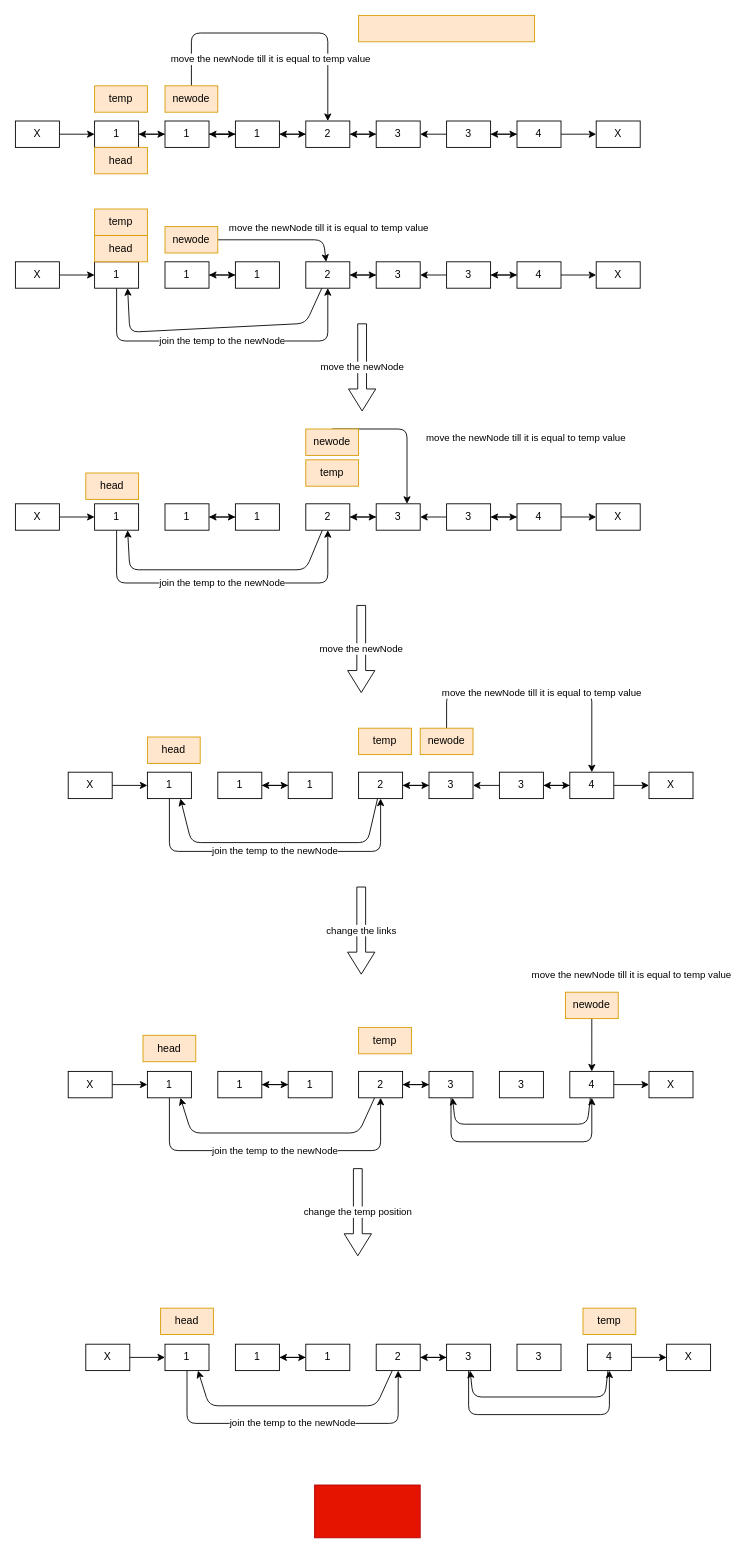
The diagram is 746 pixels wide and 1553 high, and some of its shapes have lost their labels. Each missing label, with the centre of its shape:
"Remove duplicates from sorted DLL" belongs at point (446, 28).
"stop when temp next is NULL" belongs at point (367, 1511).
